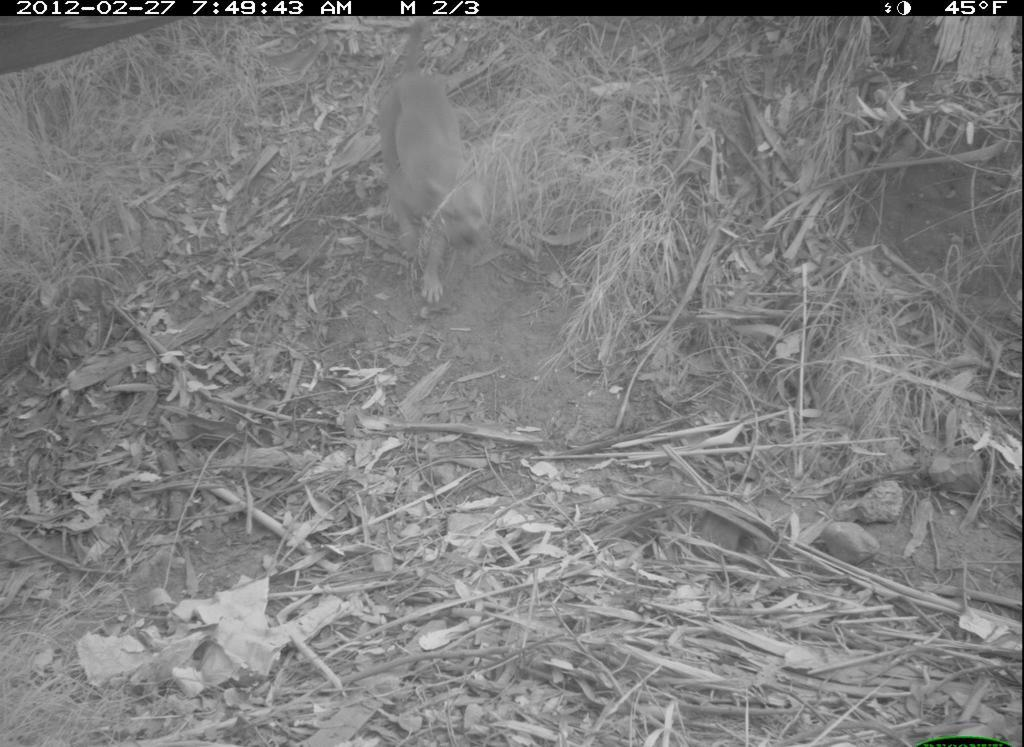dog: (369, 22, 500, 309)
